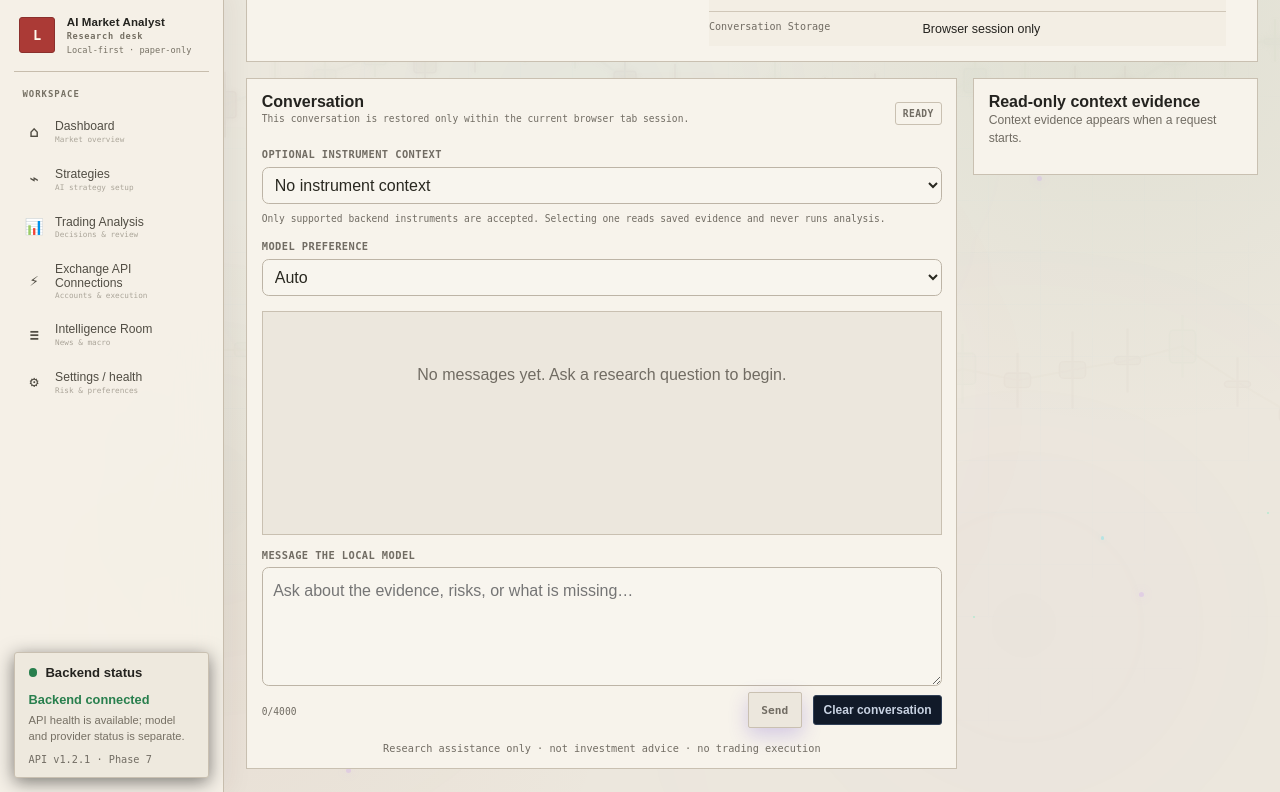
Test: QwenConsultPage › aborts an in-flight stream and reports that generation stopped
The width and height of the screenshot is (1280, 792).
(page scrolled)
Type "Keep generating" into the text box labelled "Message the local model" at (602, 627), box x1=262 y1=567 x2=942 y2=686
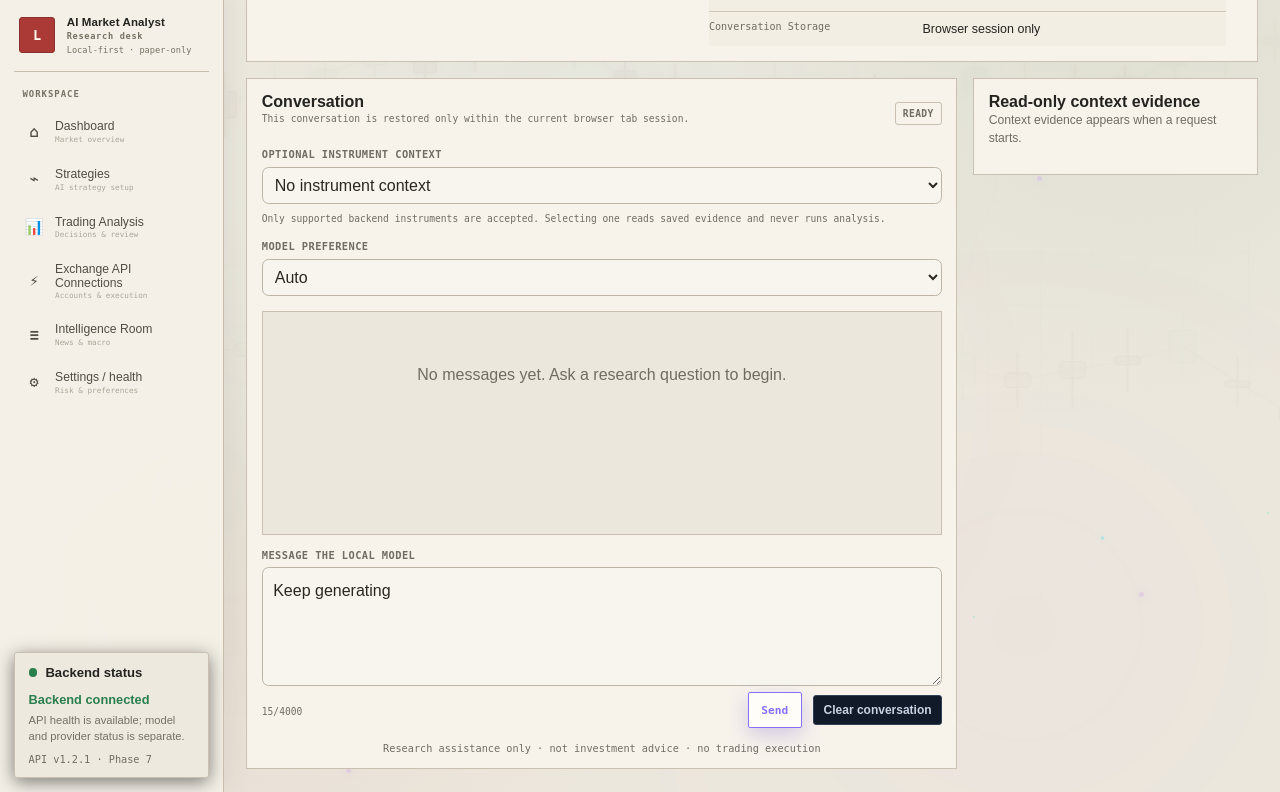
Click the button "Send" at (775, 710), box x1=748 y1=692 x2=802 y2=728
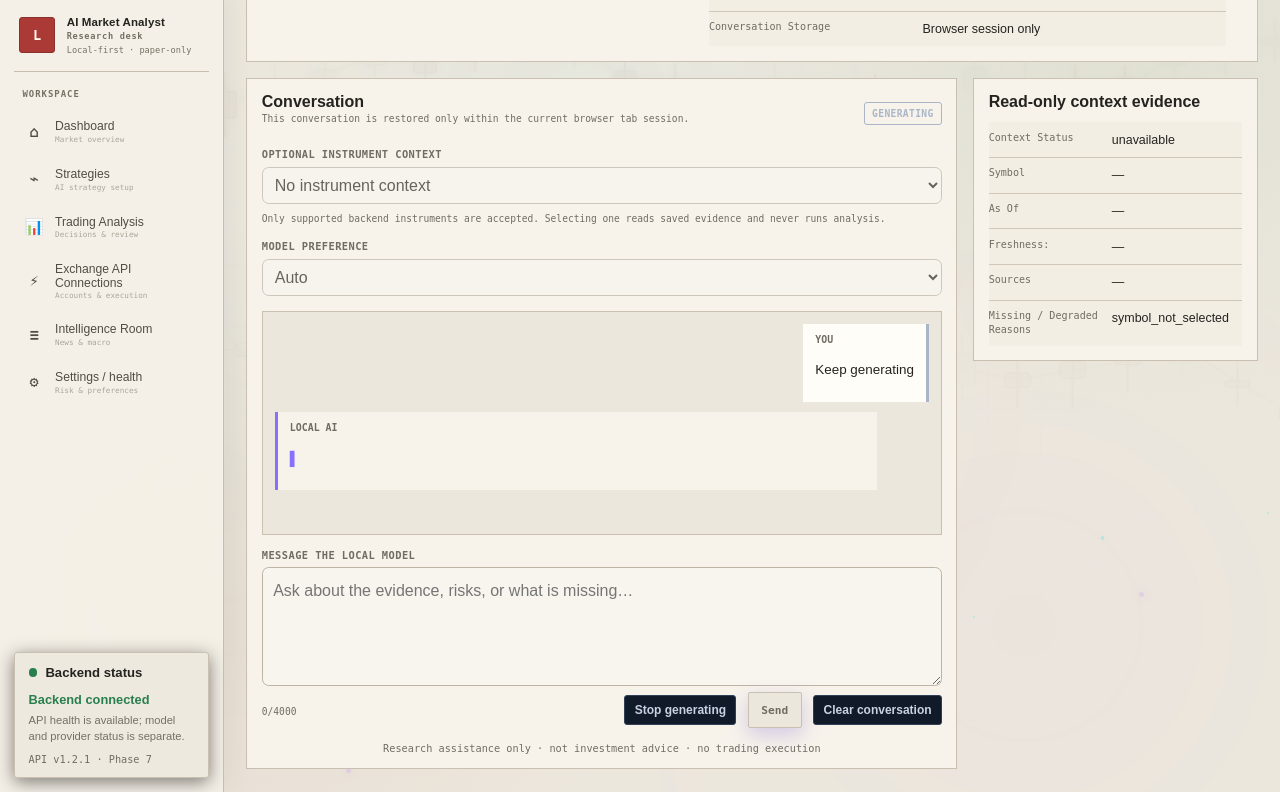
Click the button "Stop generating" at (680, 710), box x1=624 y1=695 x2=736 y2=725
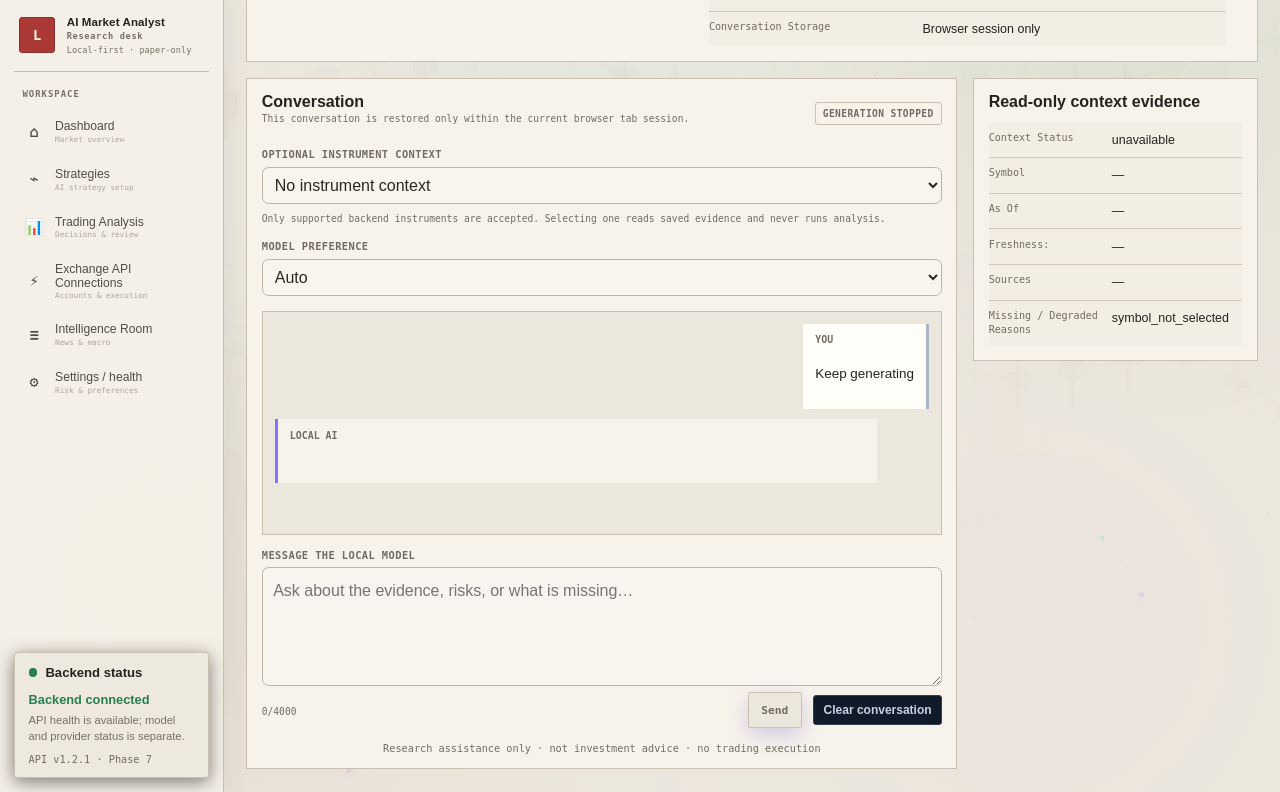
Now the text "Generation stopped" is shown, box x1=815 y1=102 x2=942 y2=125
